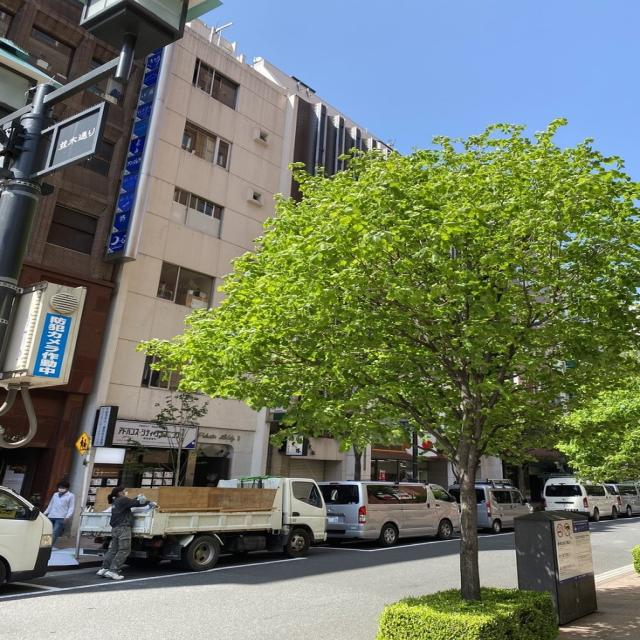zelkova: (134, 117, 640, 600)
